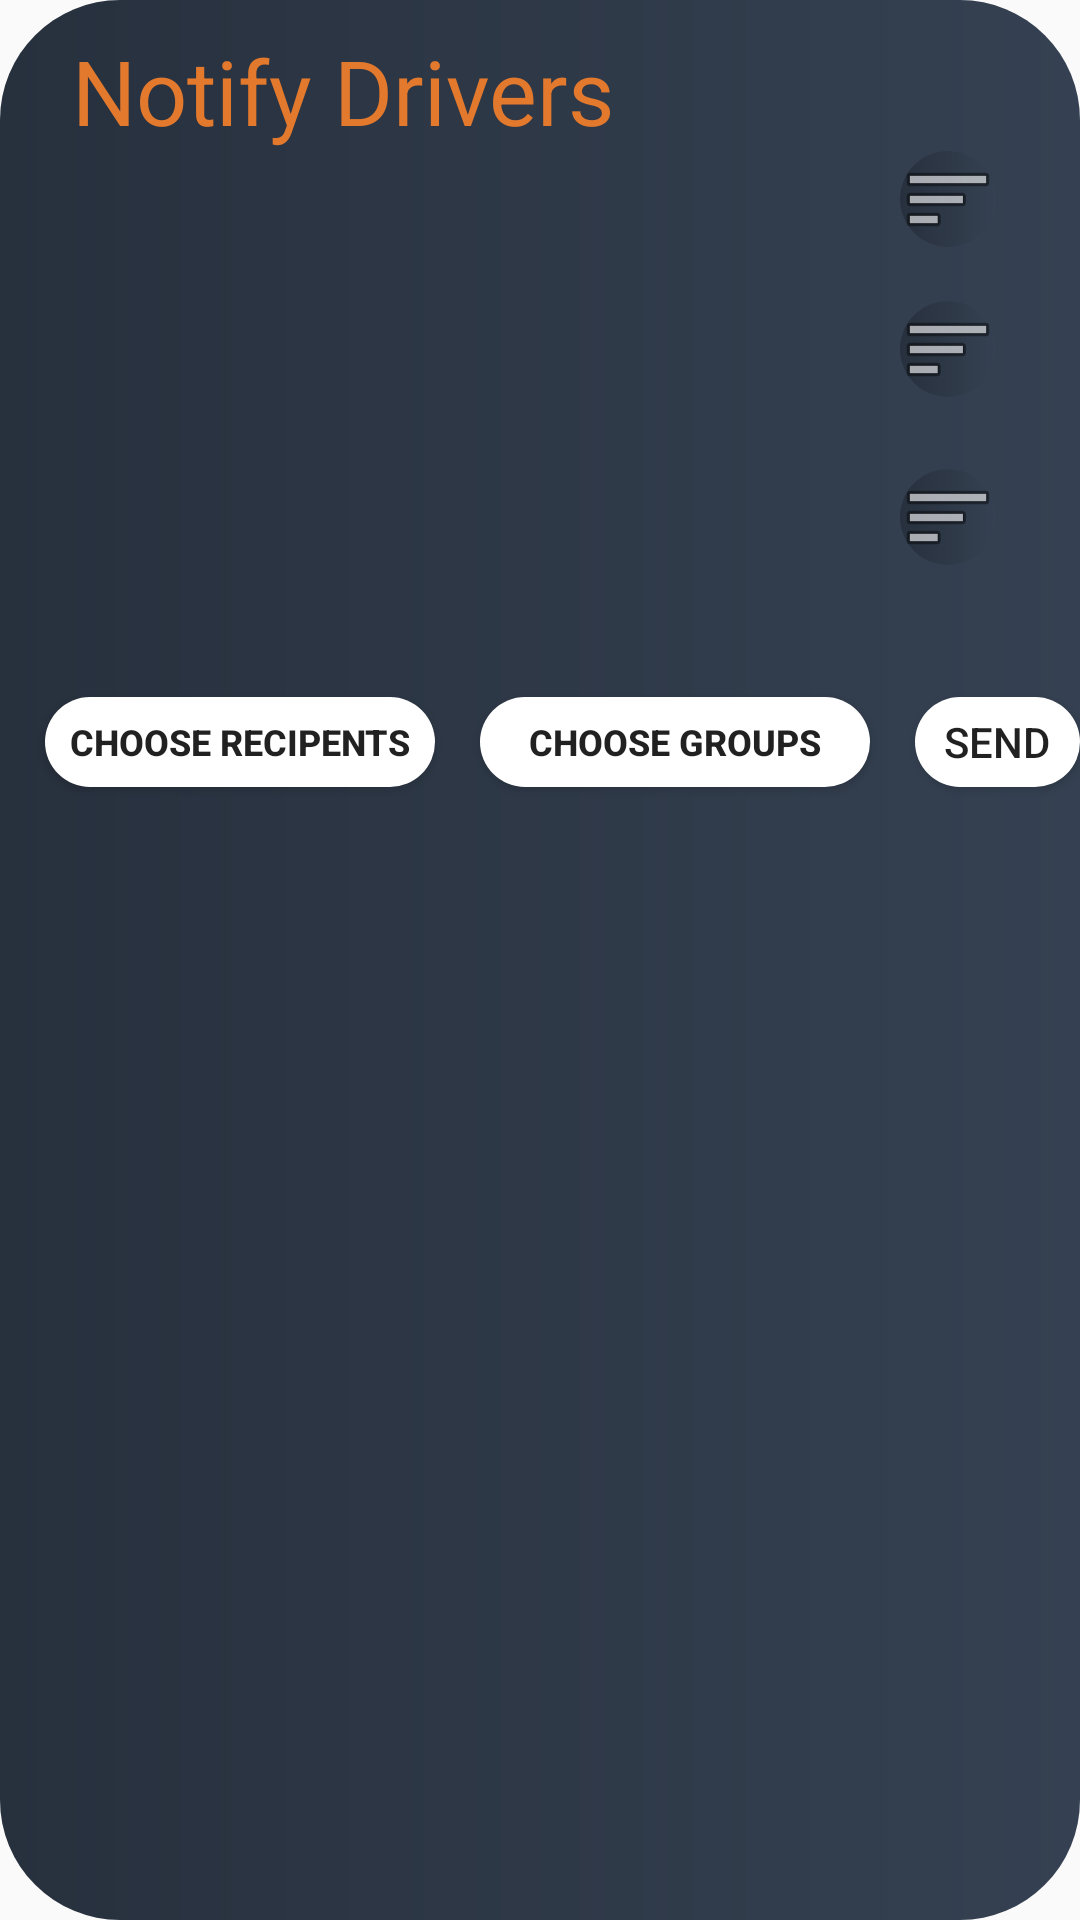

Icon bounding boxes for this 1080*1920 phone screenshot, format (x1, y1, x2, y2):
sort by size: (907, 173, 989, 226), (907, 323, 989, 376), (907, 491, 989, 544)
